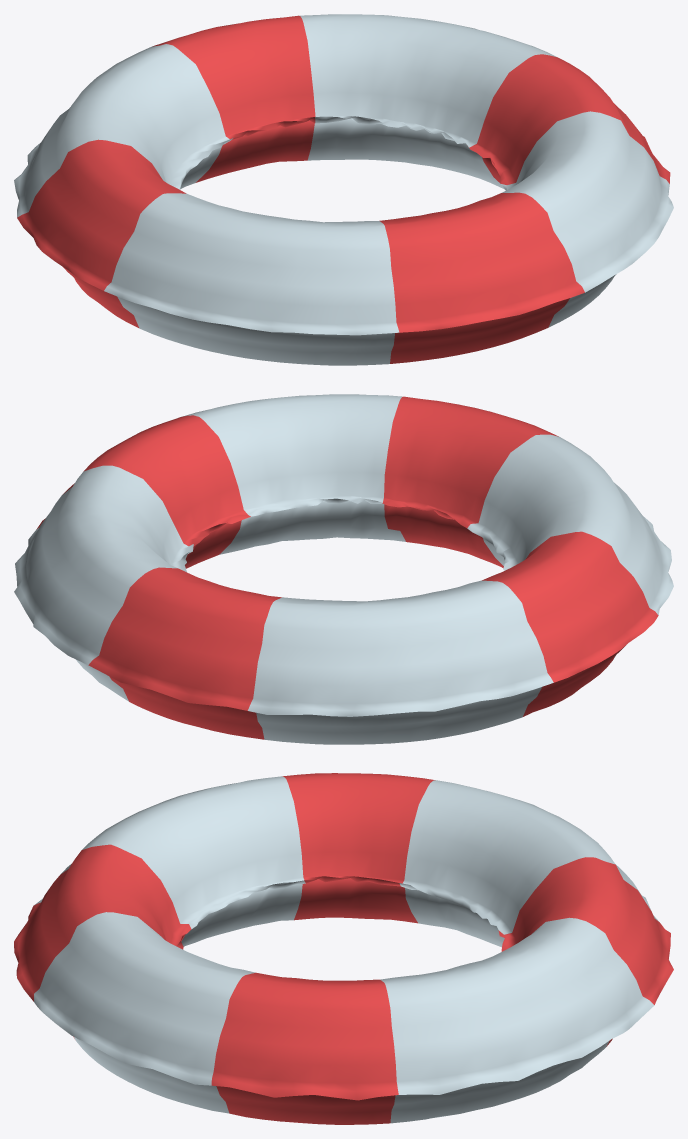
Rendered from Swimming ring.fbx.
The picture shows the model from 3 angles, top to bottom: view 1: azimuth 30°, elevation 25°; view 2: azimuth 150°, elevation 25°; view 3: azimuth 270°, elevation 25°; orthographic projection.
Parts seen in each view (by area): view 1: Torus; view 2: Torus; view 3: Torus.
Part boxes in pixels (bbox=[...]): Torus: bbox=[14, 14, 673, 365]; Torus: bbox=[14, 394, 673, 744]; Torus: bbox=[14, 773, 673, 1124].
Bounding box in the file's own units: 301 × 68.41 × 301.
